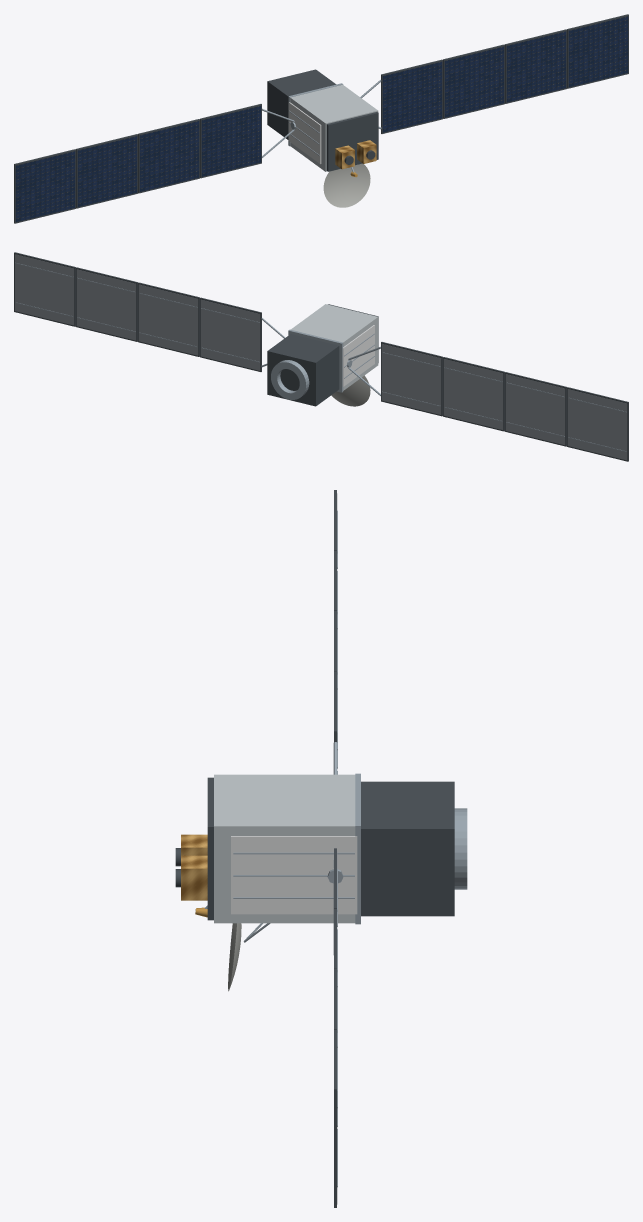
Rendered from ref-bss-702-41724.glb.
3 renders of one model, top to bottom at view 1: azimuth 30°, elevation 25°; view 2: azimuth 150°, elevation 25°; view 3: azimuth 270°, elevation 25°, orthographic. The views are drawn at different scales.
Parts seen in each view (by area): view 1: Solar cell panel (×8), Solar panel frame (×8), Payload module, Service module, Earth-facing deck, Communications reflector, Radiator face, Communications feed assembly (×2); view 2: Rear array substrate (×8), Solar panel frame (×8), Service module, Payload module, Radiator face, Launch adapter ring, Communications reflector, Module interface; view 3: Service module, Payload module, Radiator face, Communications feed assembly, Launch adapter ring, Earth-facing deck.
Boxes of the visible parts, left/top/right/bottom form: Solar cell panel (×8): left=15, top=16, right=628, bottom=222; Solar panel frame (×8): left=14, top=14, right=628, bottom=223; Payload module: left=290, top=84, right=378, bottom=171; Service module: left=267, top=69, right=336, bottom=139; Earth-facing deck: left=326, top=112, right=378, bottom=171; Communications reflector: left=323, top=163, right=370, bottom=207; Radiator face: left=288, top=102, right=321, bottom=163; Communications feed assembly (×2): left=335, top=140, right=376, bottom=169; Rear array substrate (×8): left=15, top=254, right=627, bottom=460; Solar panel frame (×8): left=14, top=252, right=628, bottom=461; Service module: left=267, top=334, right=339, bottom=406; Payload module: left=291, top=304, right=378, bottom=390; Radiator face: left=342, top=325, right=374, bottom=386; Launch adapter ring: left=271, top=360, right=309, bottom=399; Communications reflector: left=331, top=375, right=370, bottom=406; Module interface: left=288, top=329, right=343, bottom=392; Service module: left=361, top=781, right=454, bottom=916; Payload module: left=214, top=774, right=355, bottom=923; Radiator face: left=231, top=836, right=357, bottom=914; Communications feed assembly: left=181, top=855, right=207, bottom=900; Launch adapter ring: left=454, top=808, right=467, bottom=889; Earth-facing deck: left=207, top=777, right=213, bottom=920.
Size of the model in its own units: 34.96 by 5.34 by 7.2.
9 materials, 2 textured.
